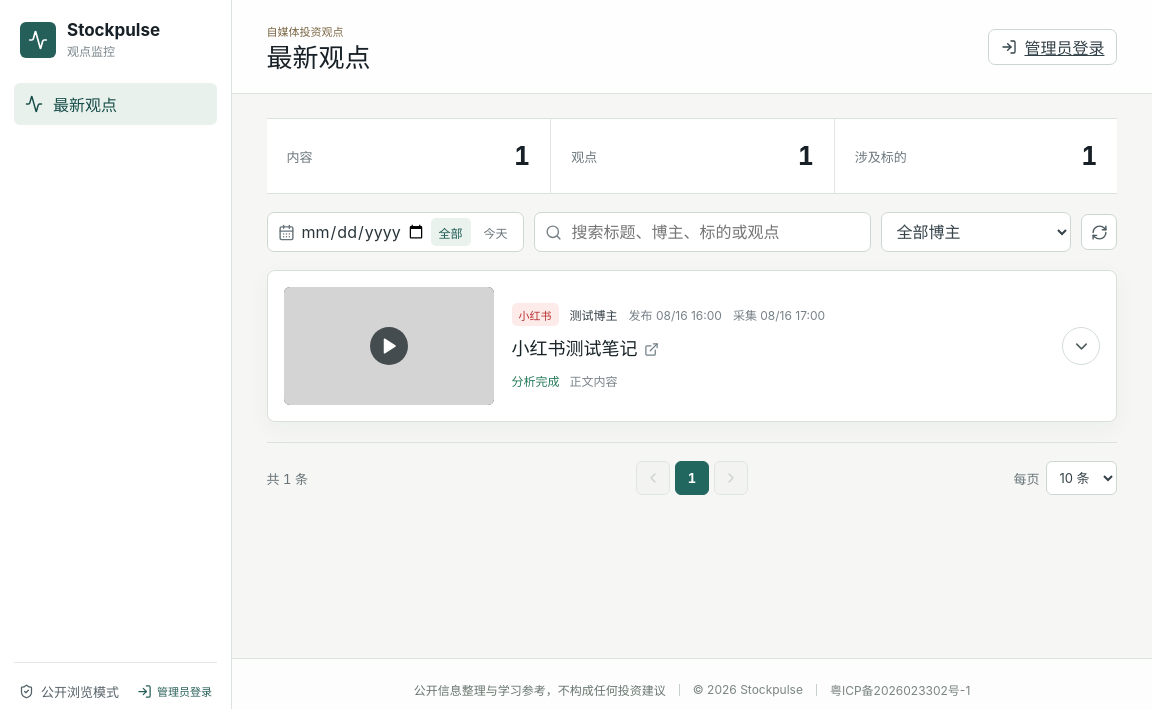
Scenario: application routes › a Xiaohongshu note exposes its body as a first-class content source
Click the button named "展开观点：小红书测试笔记": coordinates (1082, 346) x1=1062 y1=327 x2=1100 y2=365
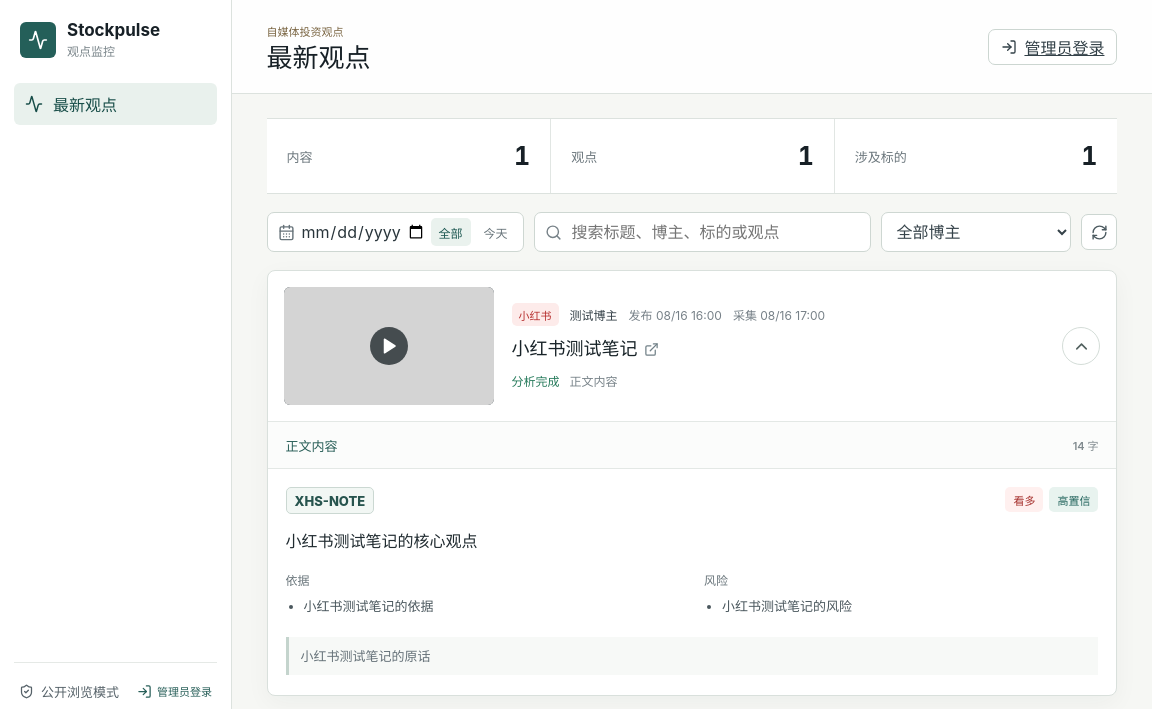
Check: the text "正文内容" is shown 2 times
Click the text "正文内容" in the row of "14": coordinates (312, 445) x1=286 y1=436 x2=338 y2=455
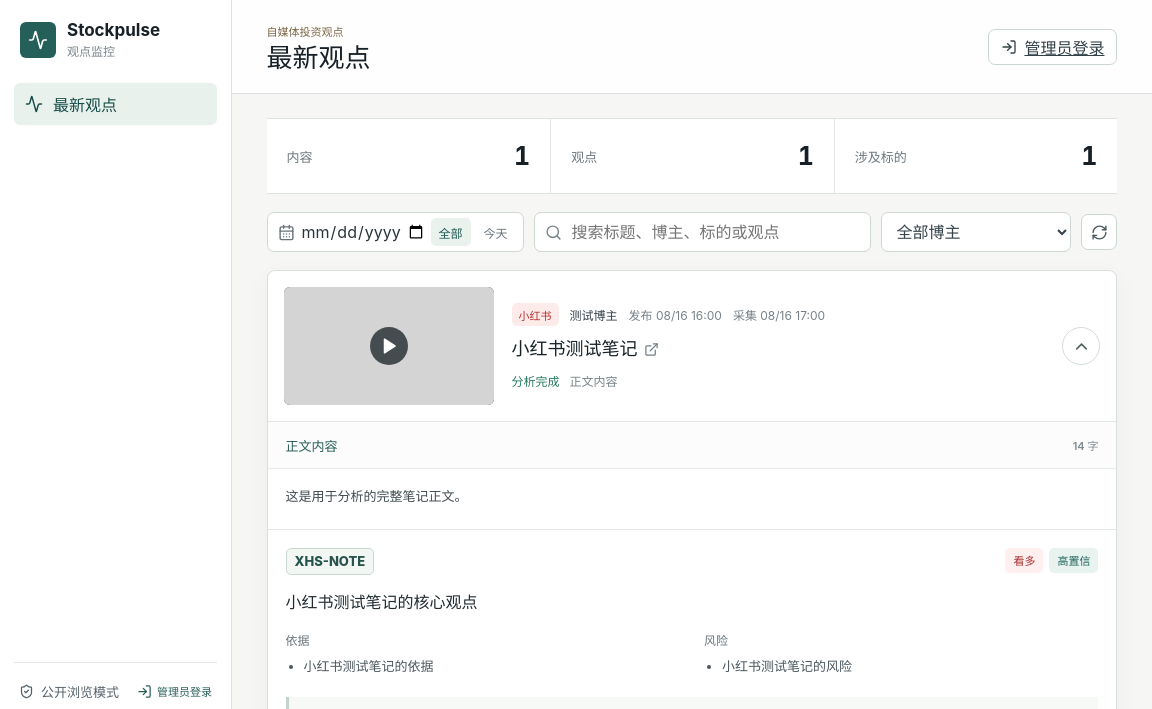
Check: the text "这是用于分析的完整笔记正文。" is shown, box x1=268 y1=468 x2=1116 y2=528
